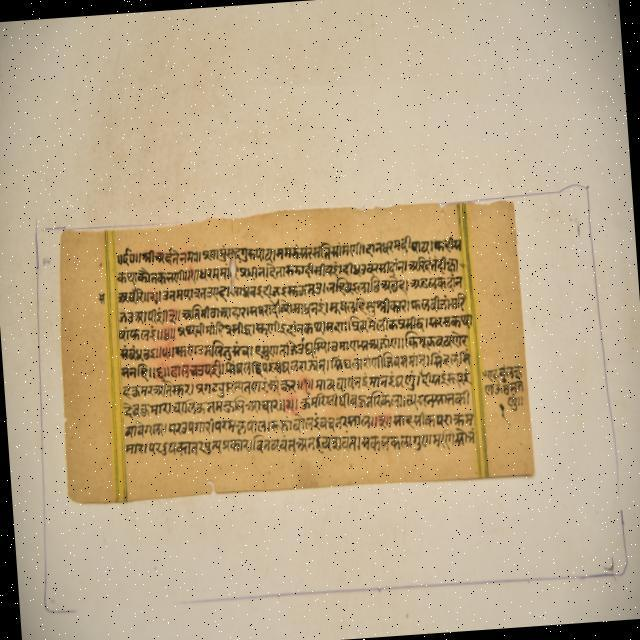text_paragraph: (62, 202, 534, 502)
